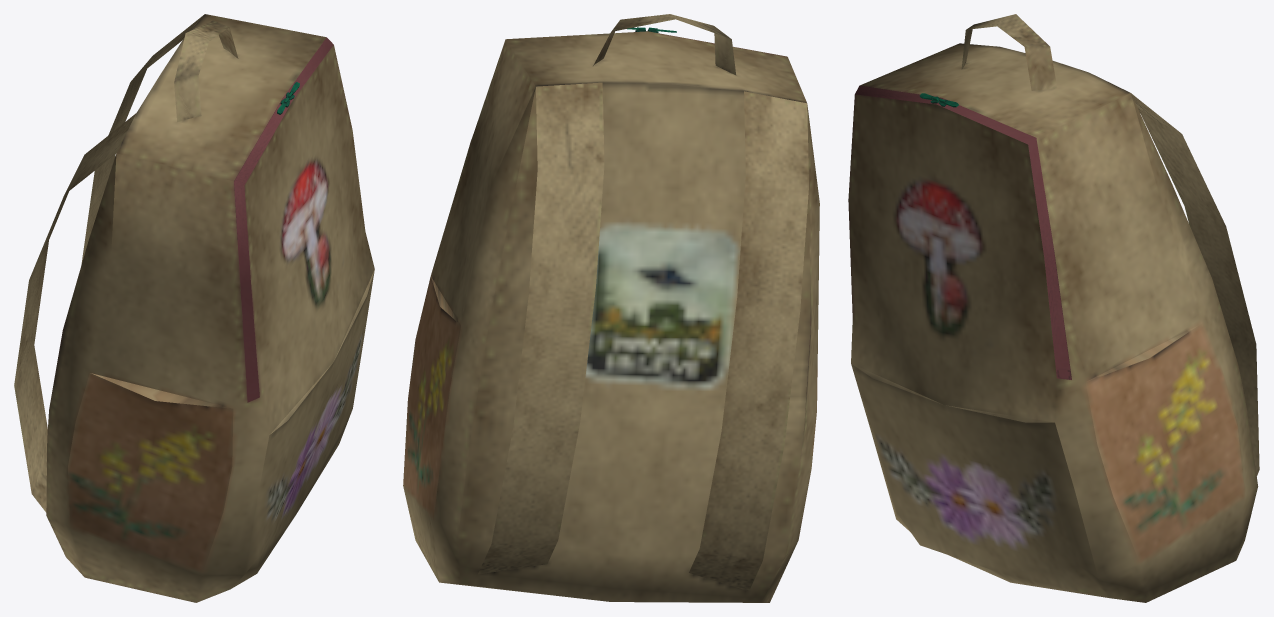
Rendered from backpack.obj.
3 views of the same model, side by side, from view 1: azimuth 30°, elevation 25°; view 2: azimuth 150°, elevation 25°; view 3: azimuth 270°, elevation 25° (orthographic). The views are drawn at different scales.
Visible parts, largest first — view 1: janta3_janta3_0; view 2: janta3_janta3_0; view 3: janta3_janta3_0.
Part boxes in pixels (x1,y1,x2,y2): janta3_janta3_0: (14,14,374,602); janta3_janta3_0: (403,14,819,602); janta3_janta3_0: (848,14,1259,602).
Size of the model in its own units: 1.61 by 2.37 by 1.63.
1 material, 1 textured.
